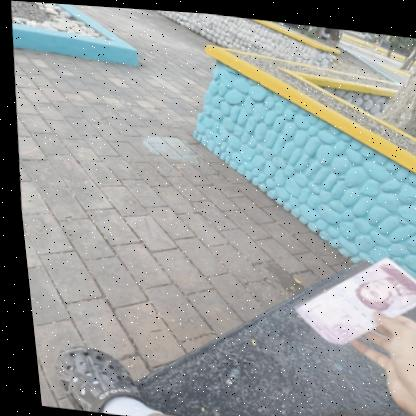vef_front: (282, 241, 416, 350)
